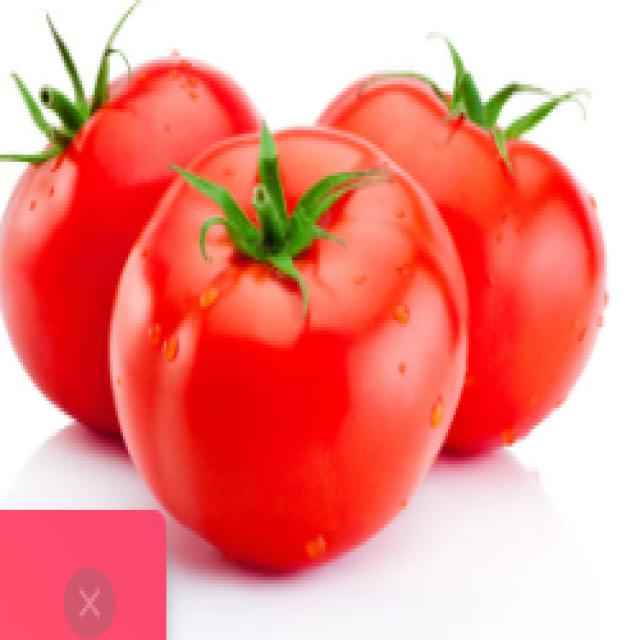Tomato: (99, 135, 458, 558)
